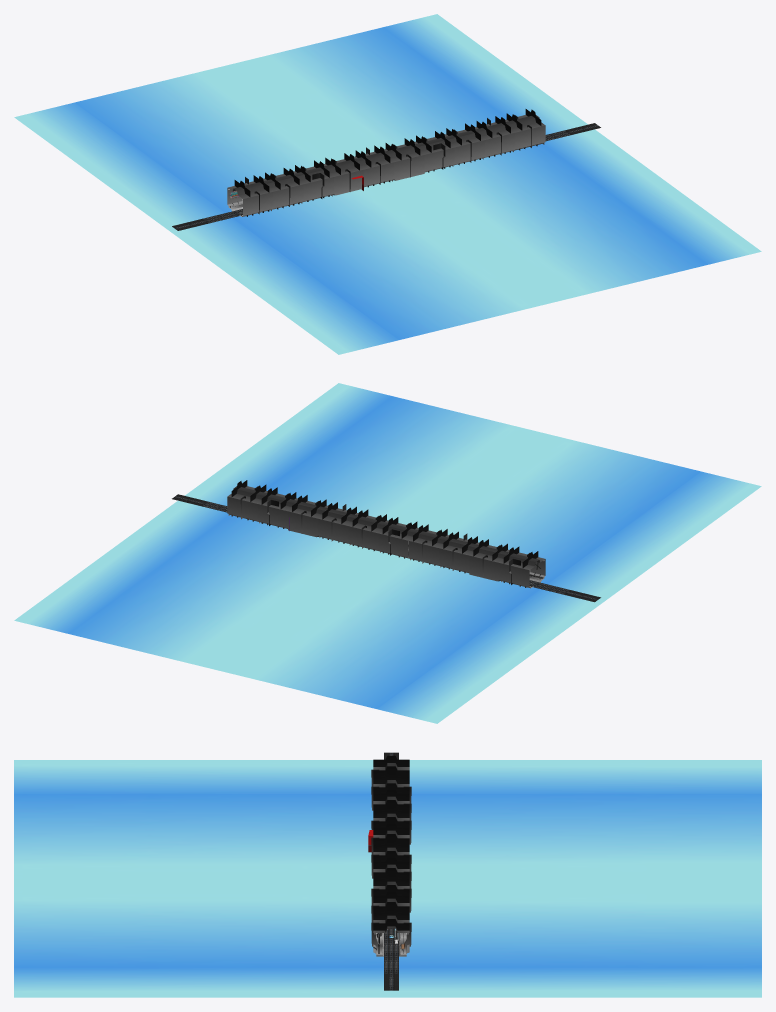
The model's file is subwaysurferstest83glb.glb.
3 views of the same model, one above another, from view 1: azimuth 30°, elevation 25°; view 2: azimuth 150°, elevation 25°; view 3: azimuth 270°, elevation 25° (orthographic). The views are drawn at different scales.
Visible parts, largest first — view 1: Water, tunnel.009, tunnel.004, tunnel.005, tunnel.001, tunnel, tunnel.008, tunnel.002, tunnel.003, tunnel.007, tunnel.006; view 2: Water, tunnel.009, tunnel.008, tunnel.003, tunnel.007, tunnel.002, tunnel, tunnel.005, tunnel.001, tunnel.004, tunnel.006; view 3: Water, tunnel, tunnel.001, tunnel.002, tunnel.004, tunnel.008, tunnel.006, tunnel.003, tunnel.005, tunnel.007, tunnel.009.
Boxes of the visible parts, x1,y1,x2,y2 form: Water: [14, 14, 761, 354]; tunnel.009: [227, 175, 273, 216]; tunnel.004: [384, 138, 424, 180]; tunnel.005: [354, 145, 394, 187]; tunnel.001: [475, 116, 515, 157]; tunnel: [505, 109, 545, 150]; tunnel.008: [263, 168, 303, 209]; tunnel.002: [444, 123, 484, 165]; tunnel.003: [414, 131, 454, 172]; tunnel.007: [293, 160, 333, 202]; tunnel.006: [323, 153, 363, 195]; Water: [14, 383, 761, 723]; tunnel.009: [499, 546, 545, 588]; tunnel.008: [469, 539, 509, 581]; tunnel.003: [318, 502, 358, 543]; tunnel.007: [439, 531, 479, 573]; tunnel.002: [288, 495, 328, 537]; tunnel: [227, 480, 267, 521]; tunnel.005: [378, 517, 418, 558]; tunnel.001: [257, 487, 297, 528]; tunnel.004: [348, 509, 388, 551]; tunnel.006: [409, 524, 449, 565]; Water: [14, 760, 761, 997]; tunnel: [371, 908, 411, 956]; tunnel.001: [371, 891, 409, 938]; tunnel.002: [371, 874, 411, 912]; tunnel.004: [371, 840, 411, 878]; tunnel.008: [371, 772, 411, 810]; tunnel.006: [371, 806, 411, 844]; tunnel.003: [373, 857, 411, 888]; tunnel.005: [371, 823, 409, 854]; tunnel.007: [373, 789, 411, 820]; tunnel.009: [371, 755, 409, 786].
Bounding box in the file's own units: 562 × 46.5 × 744.
5 materials, 5 textured.
